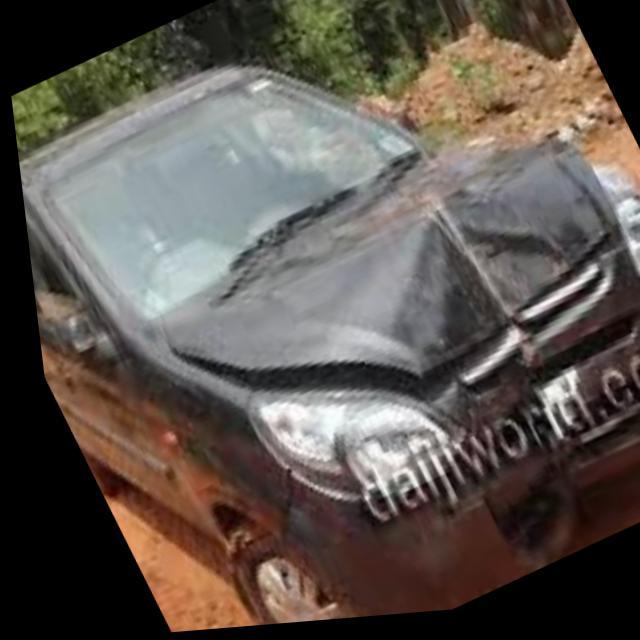dislocated part: (215, 156, 640, 623)
